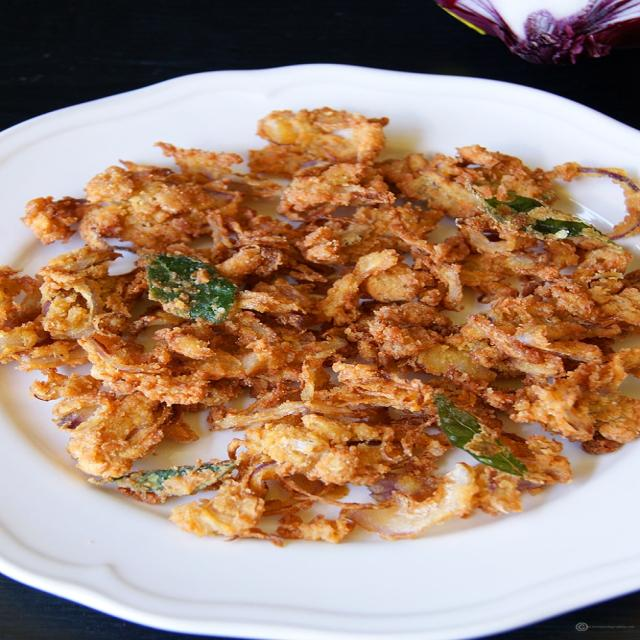BAJI: (0, 107, 639, 544)
